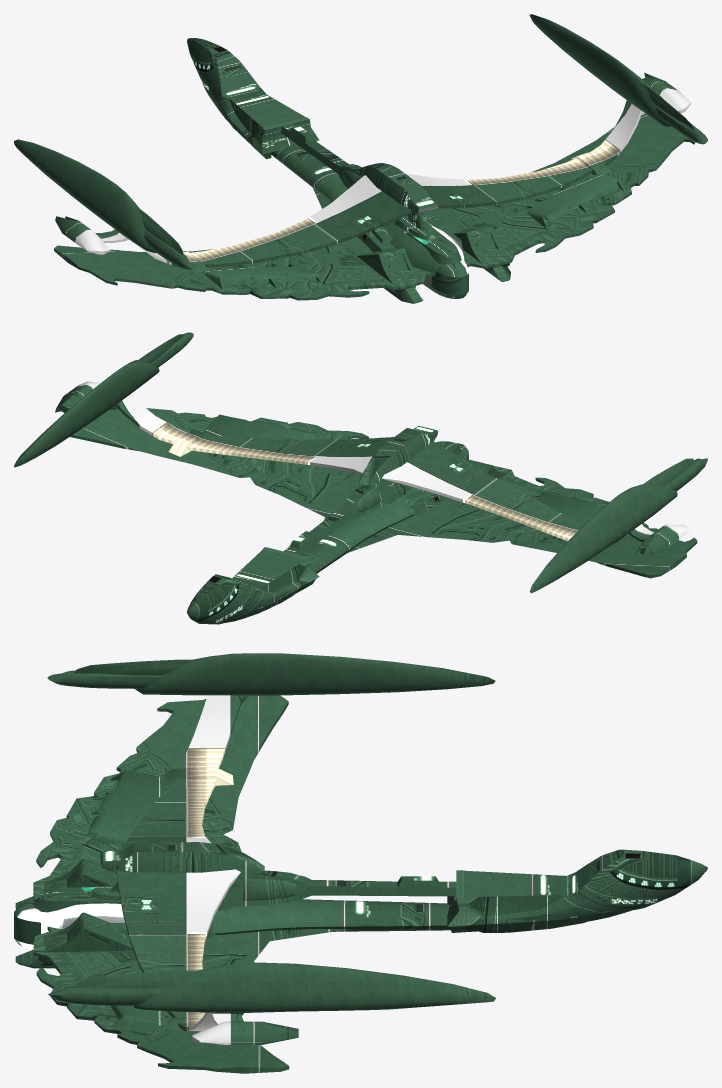
Rendered from Rom_Noraxan.fbx.
The picture shows the model from 3 angles, top to bottom: view 1: azimuth 30°, elevation 25°; view 2: azimuth 150°, elevation 25°; view 3: azimuth 270°, elevation 25°; orthographic projection. The views are drawn at different scales.
Visible parts, largest first — view 1: Rom_Noraxan; view 2: Rom_Noraxan; view 3: Rom_Noraxan.
Part boxes in pixels (x1,y1,x2,y2): Rom_Noraxan: (14, 14, 707, 303); Rom_Noraxan: (14, 332, 707, 624); Rom_Noraxan: (14, 653, 707, 1073).
Size of the model in its own units: 810 by 143 by 636.
Materials: 1 (1 with a texture image).
